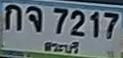letters: (3, 3, 24, 33), (24, 4, 44, 34), (52, 7, 69, 36), (103, 11, 120, 40), (70, 9, 87, 37), (88, 10, 101, 38)
province: (43, 40, 80, 56)
